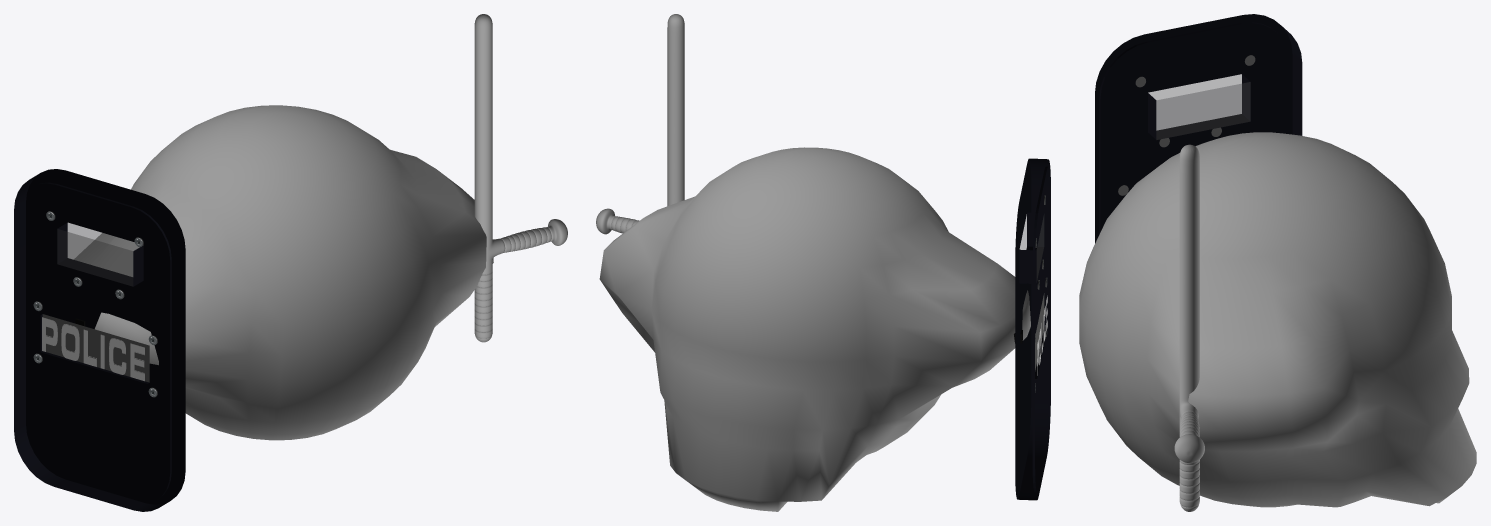
The model's file is ghost.obj.
3 renders of one model, left to right at view 1: azimuth 30°, elevation 25°; view 2: azimuth 150°, elevation 25°; view 3: azimuth 270°, elevation 25°, orthographic. The views are drawn at different scales.
Visible parts, largest first — view 1: ghost04, pCube4, 19765_Police_Baton, pCube2; view 2: ghost04, pCube4, 19765_Police_Baton, pCube2; view 3: ghost04, pCube4, 19765_Police_Baton.
Boxes of the visible parts, x1,y1,x2,y2 form: ghost04: [74, 105, 493, 440]; pCube4: [14, 169, 185, 511]; 19765_Police_Baton: [474, 14, 567, 342]; pCube2: [40, 314, 149, 383]; ghost04: [599, 147, 1030, 511]; pCube4: [1015, 158, 1050, 500]; 19765_Police_Baton: [596, 14, 684, 234]; pCube2: [1035, 291, 1047, 378]; ghost04: [1079, 132, 1476, 507]; pCube4: [1095, 14, 1302, 243]; 19765_Police_Baton: [1174, 144, 1204, 511].
Size of the model in its own units: 1933 by 1438 by 1176.
